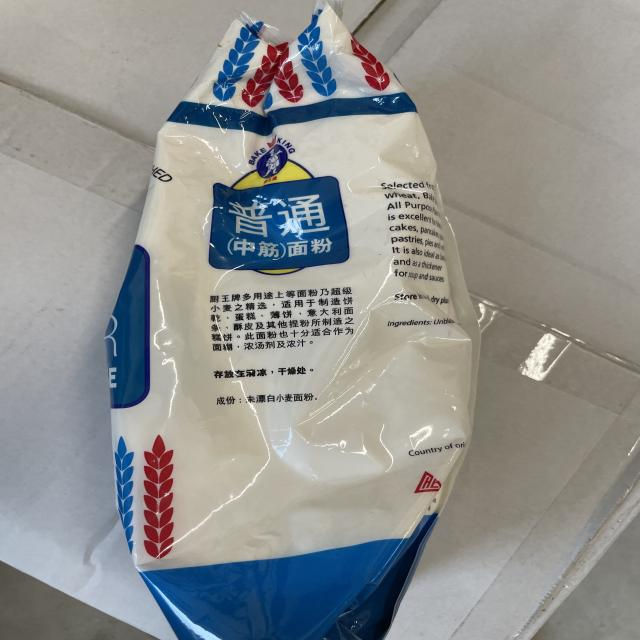object_name: (122, 22, 415, 640)
